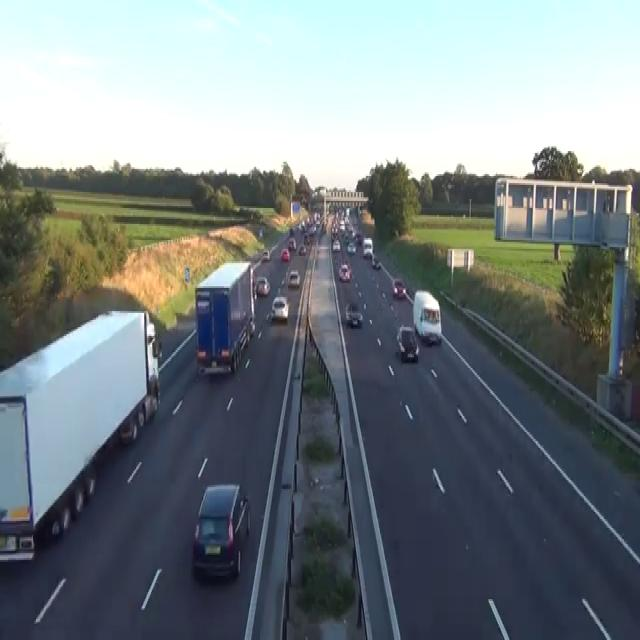Car: (192, 482, 250, 580), (396, 323, 419, 362), (344, 301, 363, 327), (271, 295, 289, 320), (255, 275, 270, 297), (392, 277, 406, 299), (338, 263, 352, 281), (288, 270, 300, 286), (280, 247, 290, 261), (261, 249, 271, 261), (371, 256, 381, 268), (346, 240, 356, 252), (249, 318, 255, 338), (252, 277, 257, 299), (288, 237, 296, 250), (332, 238, 340, 251), (307, 224, 316, 235), (339, 219, 345, 233), (298, 244, 306, 254), (355, 231, 361, 244), (303, 233, 310, 243), (266, 311, 272, 322), (271, 242, 279, 250), (300, 196, 307, 204), (289, 226, 295, 234), (258, 228, 262, 238), (280, 278, 285, 286), (371, 253, 375, 263)
Truck: (0, 308, 162, 562), (194, 260, 255, 375), (412, 290, 442, 345)
